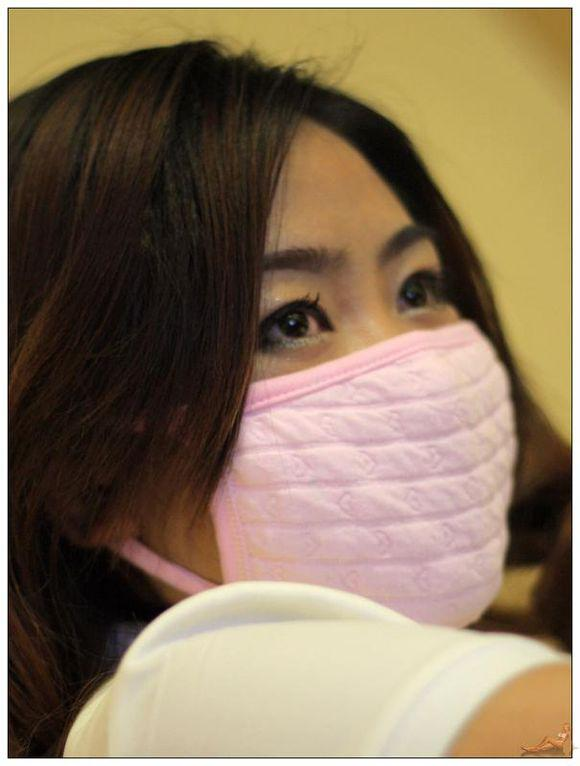OK: (111, 222, 521, 632)
